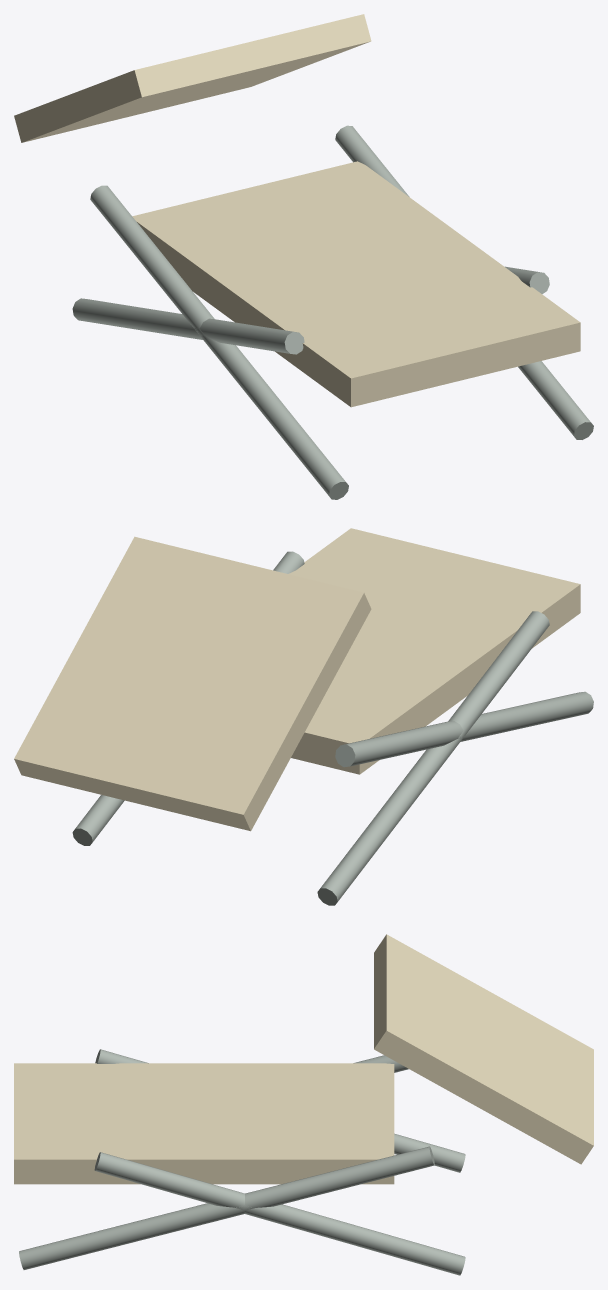
File: lounger.glb
3 renders of one model, top to bottom at view 1: azimuth 30°, elevation 25°; view 2: azimuth 150°, elevation 25°; view 3: azimuth 270°, elevation 25°, orthographic. The views are drawn at different scales.
Parts seen in each view (by area): view 1: SeatAssembly, FrameAssembly; view 2: SeatAssembly, FrameAssembly; view 3: SeatAssembly, FrameAssembly.
Boxes of the visible parts, box(x1,y1,x2,y2) form: SeatAssembly: box(14, 14, 580, 407); FrameAssembly: box(72, 125, 593, 499); SeatAssembly: box(14, 528, 580, 831); FrameAssembly: box(72, 551, 593, 905); SeatAssembly: box(14, 934, 593, 1184); FrameAssembly: box(19, 1049, 465, 1275).
Bounding box in the file's own units: 0.8628 × 0.8746 × 1.91.
